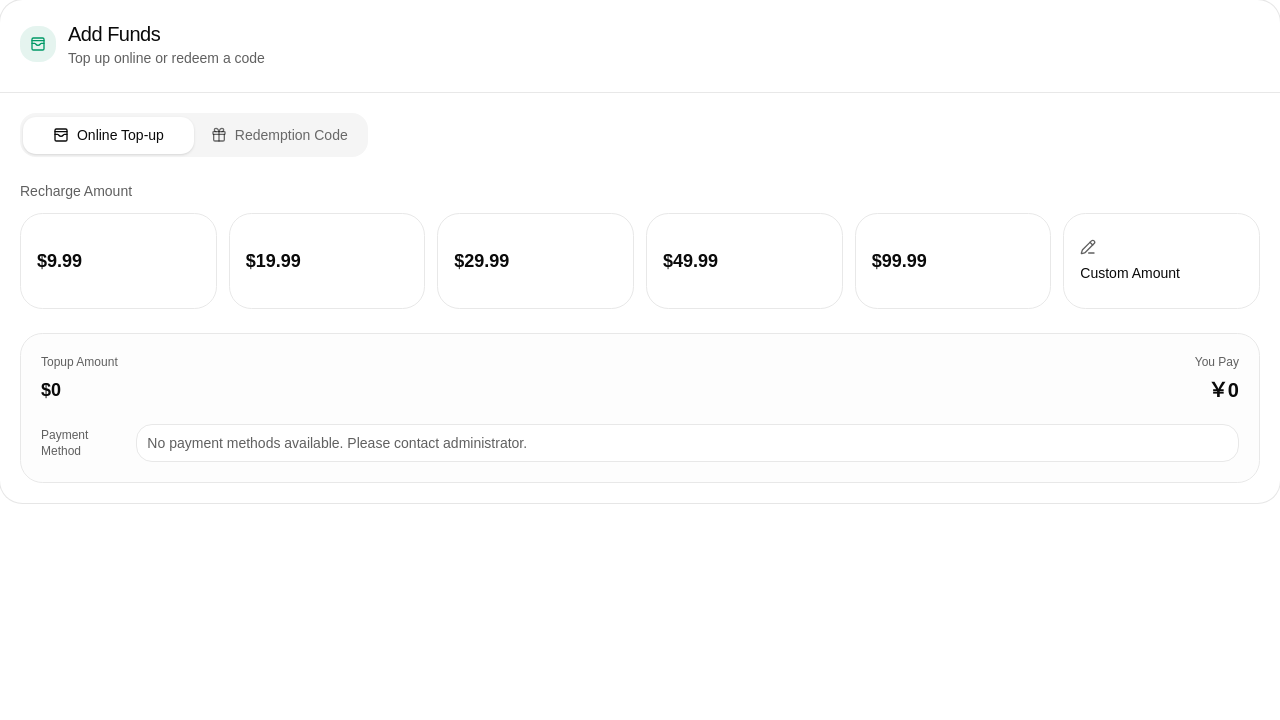
Test: keeps fractional preset and custom amounts when selecting and editing
The image size is (1280, 720).
Click the button "$9.99" at (118, 261), box left=20, top=213, right=217, bottom=309
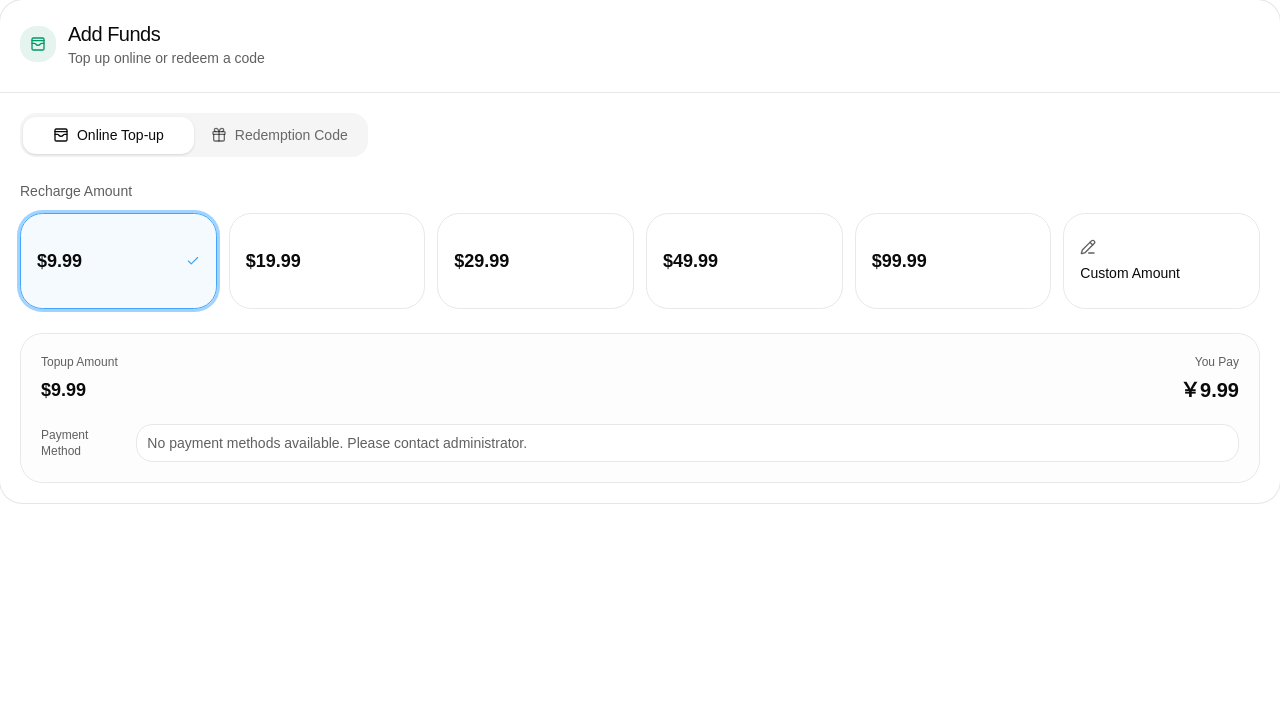
Check: the button "$9.99" is pressed, box left=20, top=213, right=217, bottom=309
Click the button "Custom Amount" at (1162, 261), box left=1063, top=213, right=1260, bottom=309
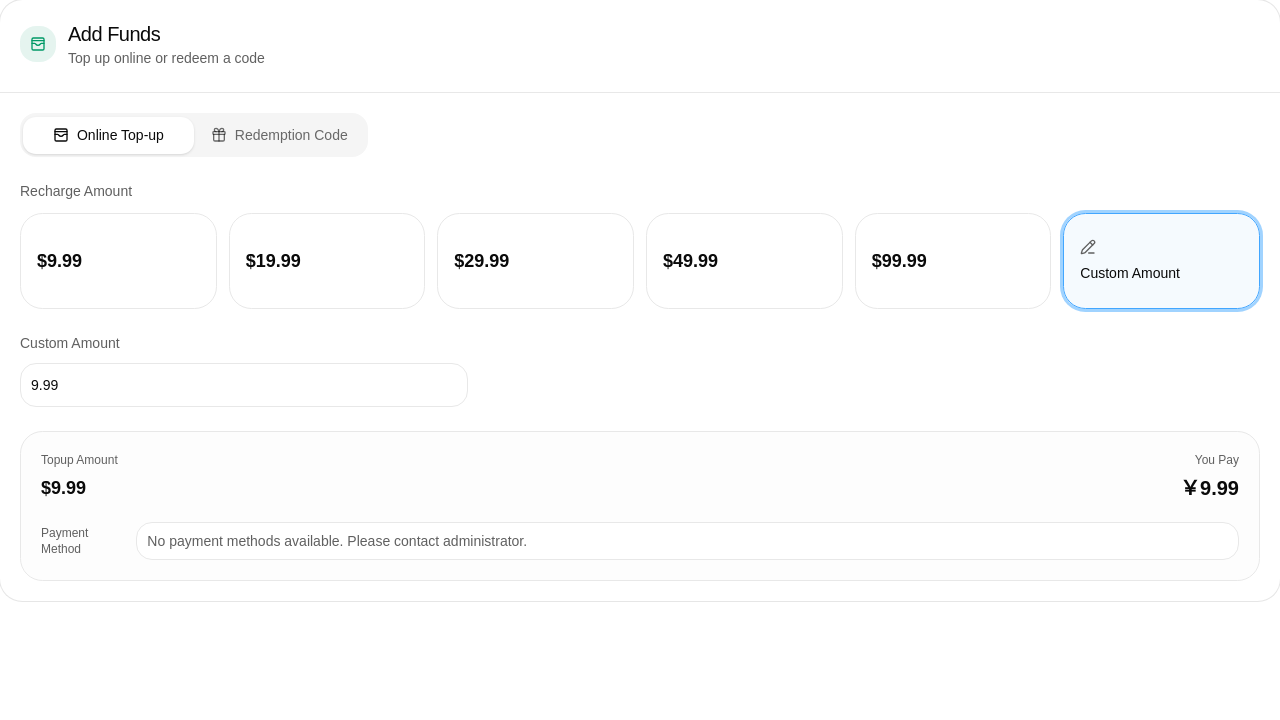
Check: the number field labelled "Custom Amount" holds "9.99"
Replace the text in the number field labelled "Custom Amount" with "19.99" at (244, 385), box left=20, top=363, right=468, bottom=407
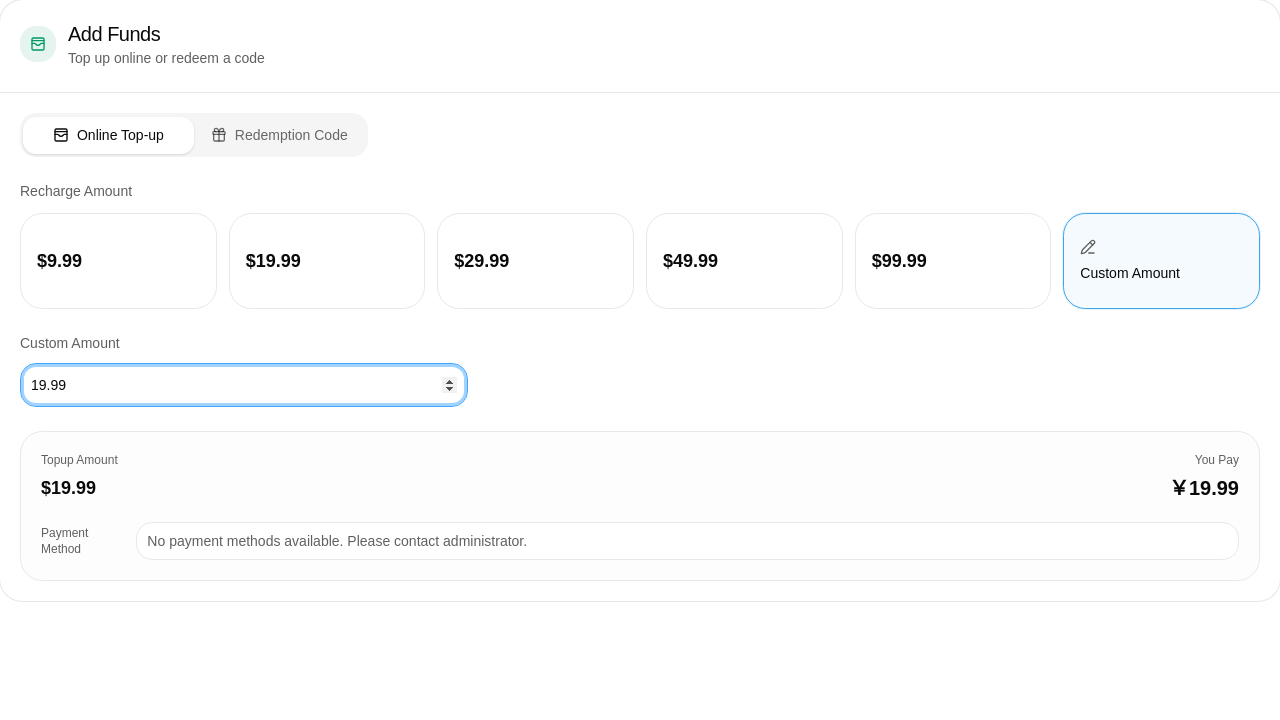
Check: the text "￥19.99" is shown, box left=1169, top=474, right=1239, bottom=502
